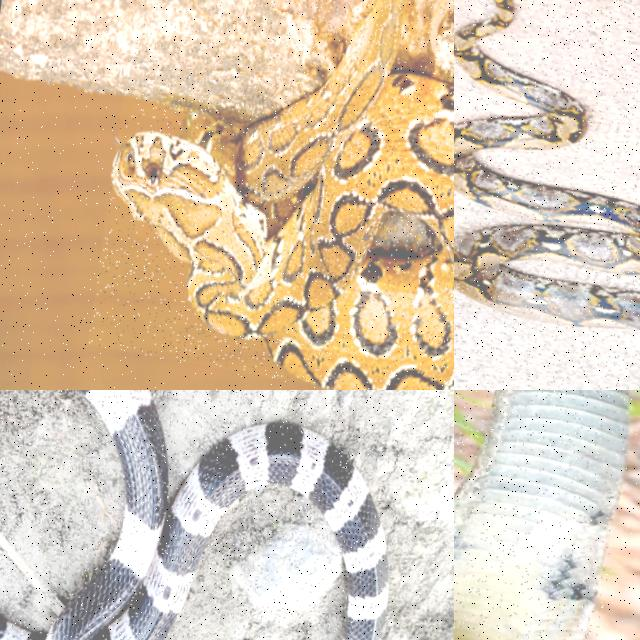Bungarus candidus: (0, 390, 387, 639)
Daboia siamensis: (112, 0, 453, 389)
Malayopython reticulatus: (454, 0, 639, 329)
Ophiophagus hannah: (454, 390, 627, 639)
